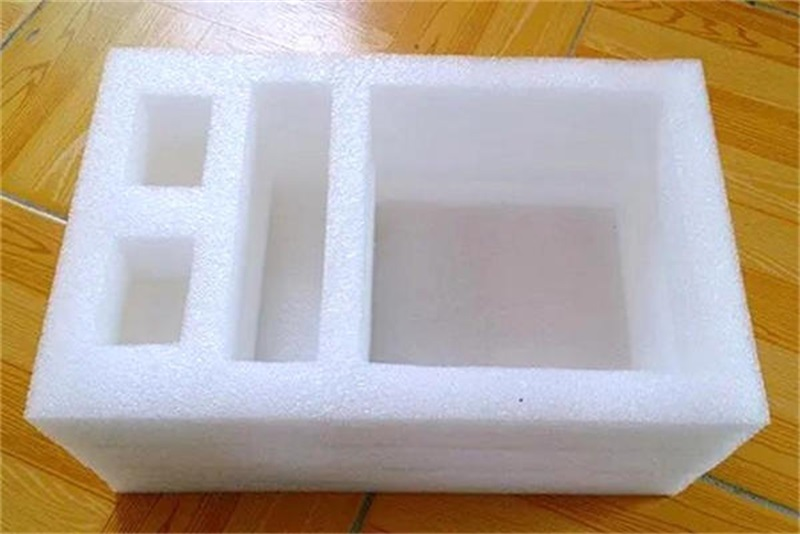泡沫箱: (27, 50, 766, 493)
